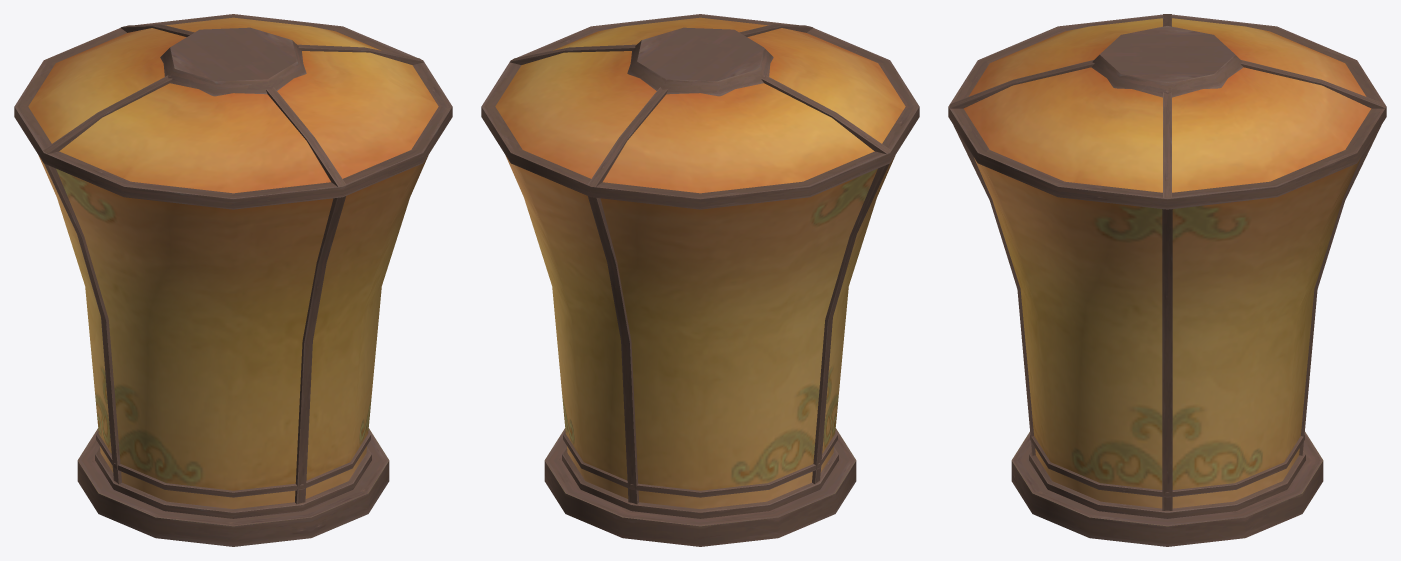
Rendered from Homeworld_Interior_Ly_Lamp_Lamp_06_Vo.fbx.
The picture shows the model from 3 angles, left to right: view 1: azimuth 30°, elevation 25°; view 2: azimuth 150°, elevation 25°; view 3: azimuth 270°, elevation 25°; orthographic projection.
Visible parts, largest first — view 1: Homeworld_Interior_Ly_Lamp_Lamp_06_Vo; view 2: Homeworld_Interior_Ly_Lamp_Lamp_06_Vo; view 3: Homeworld_Interior_Ly_Lamp_Lamp_06_Vo.
Part boxes in pixels (x1,y1,x2,y2): Homeworld_Interior_Ly_Lamp_Lamp_06_Vo: (14, 14, 452, 546); Homeworld_Interior_Ly_Lamp_Lamp_06_Vo: (481, 14, 919, 546); Homeworld_Interior_Ly_Lamp_Lamp_06_Vo: (948, 14, 1386, 546).
Size of the model in its own units: 0.8763 by 0.9413 by 0.8763.
1 material, 1 textured.
